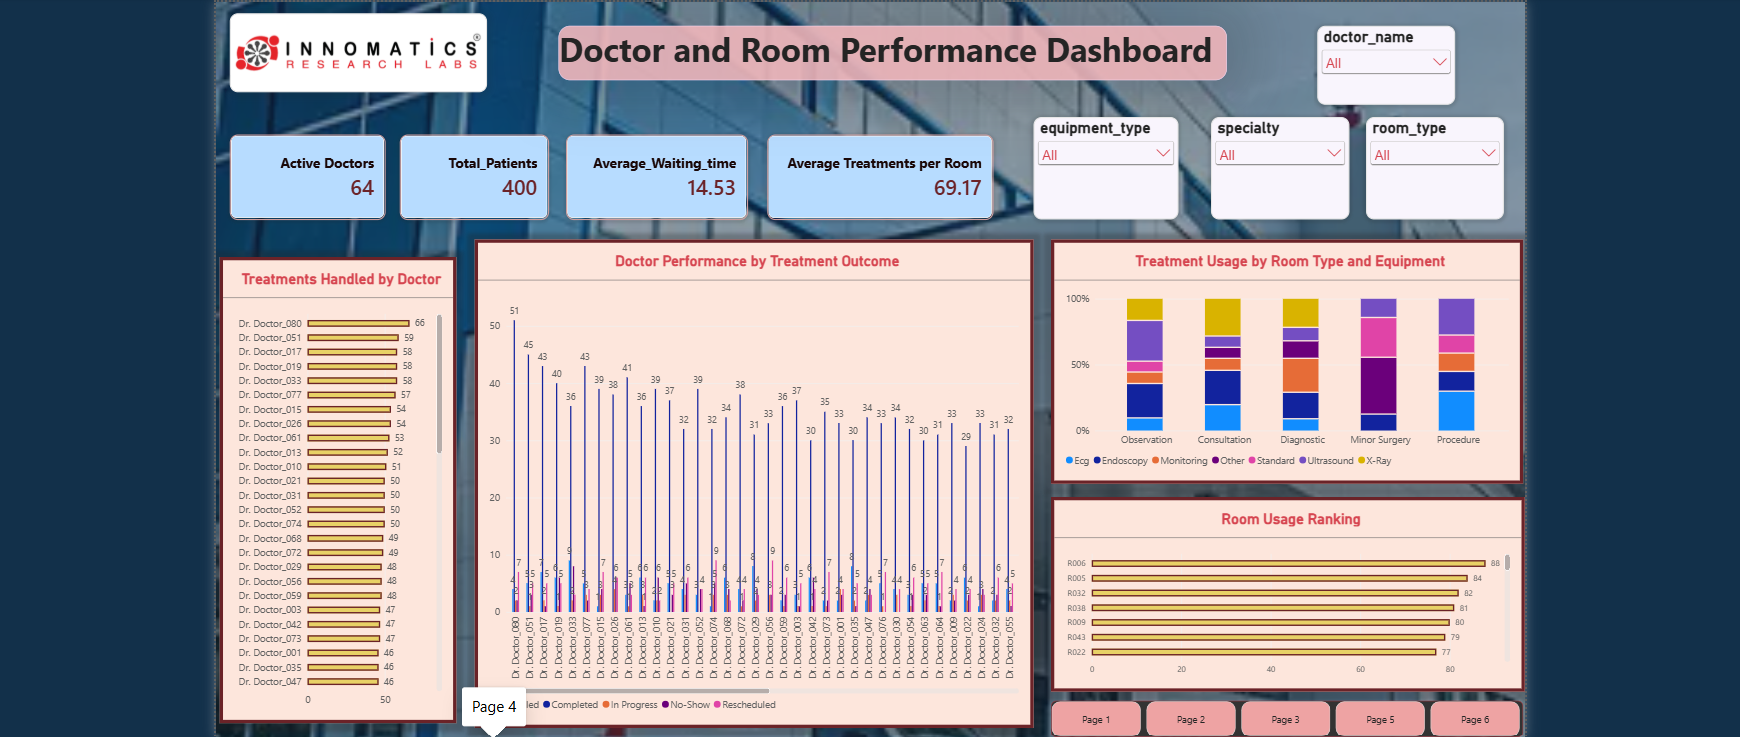

This screenshot's page, from the dashboard's own definition file:
{"tool":"powerbi","page":{"name":"Page 4","canvas":[1920,1080],"ordinal":3},"visuals":[{"type":"cardVisual","fields":{"Data":["treatments.Total_Patients"]},"box":[269.6,194,219.2,126],"z":0},{"type":"cardVisual","fields":{"Data":["doctors.Active Doctors"]},"box":[20.6,194.1,229.2,125.9],"z":1000},{"type":"cardVisual","fields":{"Data":["appointments.Average_Waiting_time"]},"box":[514.1,194.1,267.1,126],"z":2000},{"type":"cardVisual","fields":{"Data":["rooms.Average Treatments per Room"]},"box":[809.3,194.1,332.4,125.9],"z":3000},{"type":"clusteredBarChart","title":"Treatments Handled by Doctor","fields":{"Category":["doctors.doctor_name"],"Y":["treatments.Total_Treatments"]},"box":[5.4,374.6,347.5,684.1],"z":4000},{"type":"clusteredColumnChart","title":"Doctor Performance by Treatment Outcome","fields":{"Category":["doctors.doctor_name"],"Series":["treatments.status"],"Y":["treatments.Total_Treatments"]},"box":[380,349.3,819.8,716.6],"z":5000},{"type":"hundredPercentStackedColumnChart","title":"Treatment Usage by Room Type and Equipment","fields":{"Category":["rooms.room_type"],"Series":["rooms.equipment_type"],"Y":["treatments.Total_Treatments"]},"box":[1225.1,349.3,693.1,358.3],"z":6000},{"type":"clusteredBarChart","title":"Room Usage Ranking","fields":{"Category":["rooms.room_id"],"Y":["rooms.Room Treatment Count"]},"box":[1225.1,725.7,694.9,285.9],"z":7000},{"type":"textbox","box":[503.1,34.4,980.8,79.6],"z":8000},{"type":"slicer","fields":{"Values":["doctors.specialty"]},"box":[1459.6,169.3,203,150],"z":9000},{"type":"slicer","fields":{"Values":["rooms.equipment_type"]},"box":[1199.5,169.3,212.6,150.7],"z":10000},{"type":"slicer","fields":{"Values":["rooms.room_type"]},"box":[1686.7,169.3,202.3,150.7],"z":11000},{"type":"slicer","fields":{"Values":["doctors.doctor_name"]},"box":[1616.5,35.1,202.3,115.6],"z":12000},{"type":"image","box":[20.6,16.5,377.8,115.6],"z":13000},{"type":"pageNavigator","box":[1225.1,1026.1,693.1,54.3],"z":14000}]}

Visuals, with their boxes in screenshot pixels (x1, y1, x2, y2):
cardVisual - treatments.Total_Patients: bbox=[399, 131, 547, 216]
cardVisual - doctors.Active Doctors: bbox=[231, 131, 386, 216]
cardVisual - appointments.Average_Waiting_time: bbox=[564, 131, 744, 216]
cardVisual - rooms.Average Treatments per Room: bbox=[763, 131, 987, 216]
"Treatments Handled by Doctor" clusteredBarChart: bbox=[221, 253, 456, 714]
"Doctor Performance by Treatment Outcome" clusteredColumnChart: bbox=[474, 236, 1027, 719]
"Treatment Usage by Room Type and Equipment" hundredPercentStackedColumnChart: bbox=[1044, 236, 1511, 477]
"Room Usage Ranking" clusteredBarChart: bbox=[1044, 489, 1512, 682]
textbox: bbox=[557, 23, 1218, 77]
slicer - doctors.specialty: bbox=[1202, 114, 1339, 215]
slicer - rooms.equipment_type: bbox=[1026, 114, 1170, 216]
slicer - rooms.room_type: bbox=[1355, 114, 1491, 216]
slicer - doctors.doctor_name: bbox=[1308, 24, 1444, 102]
image: bbox=[231, 11, 486, 89]
pageNavigator: bbox=[1044, 692, 1511, 729]
